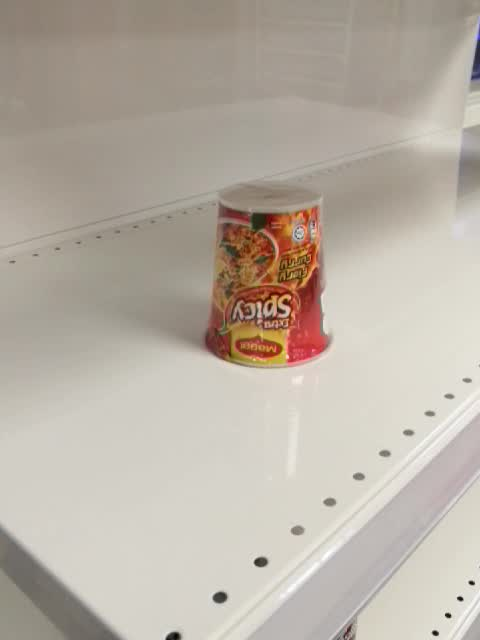maggi: (203, 180, 332, 372)
